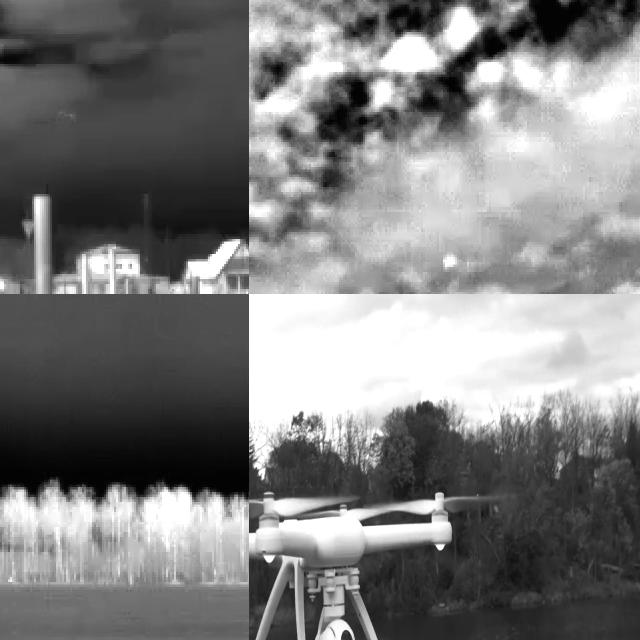0: (421, 244, 471, 284)
drone: (249, 484, 468, 640)
